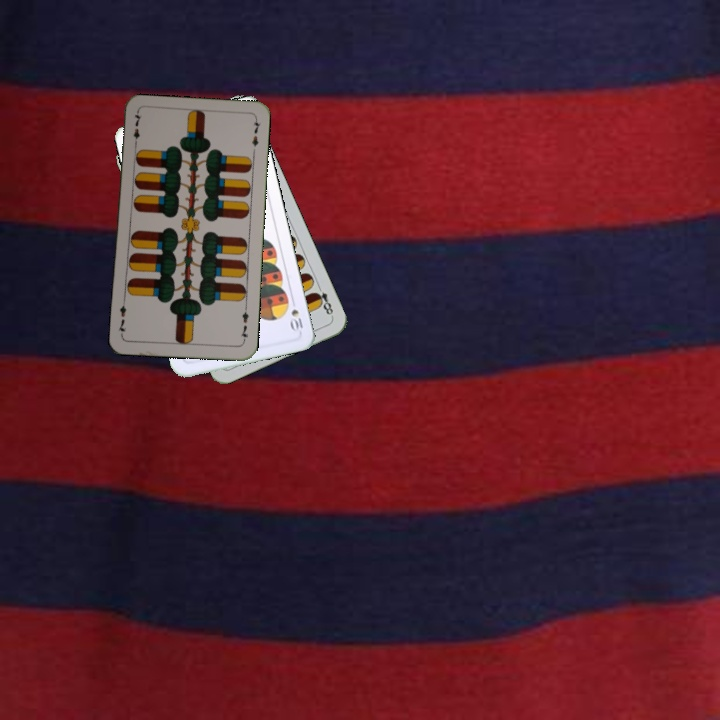E7: (129, 109, 144, 150), (237, 304, 251, 345)
E8: (310, 281, 336, 320)
S10: (286, 294, 306, 335)
